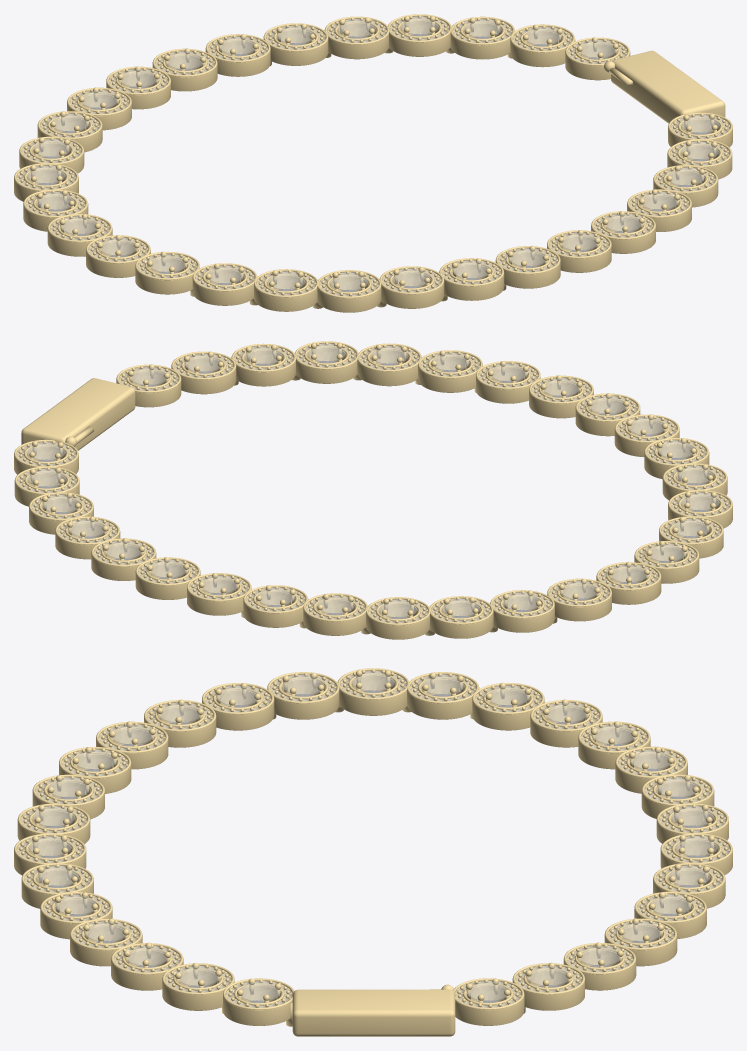
File: bracelet.glb
3 views of the same model, one above another, from view 1: azimuth 30°, elevation 25°; view 2: azimuth 150°, elevation 25°; view 3: azimuth 270°, elevation 25° (orthographic). The views are drawn at different scales.
Visible parts, largest first — view 1: clasp, LINK_19, LINK_20, LINK_18, LINK_17, LINK_03, LINK_04, LINK_02, LINK_21, LINK_05, LINK_16, LINK_22 (+18 smaller); view 2: clasp, LINK_09, LINK_10, LINK_08, LINK_11, LINK_25, LINK_07, LINK_24, LINK_26, LINK_23, LINK_12, LINK_06 (+18 smaller); view 3: clasp, LINK_00, LINK_28, LINK_14, LINK_15, LINK_13, LINK_27, LINK_01, LINK_12, LINK_16, LINK_02, LINK_26 (+18 smaller).
Boxes of the visible parts, <box> form: clasp: <box>604,50,725,123</box>; LINK_19: <box>317,270,381,312</box>; LINK_20: <box>379,266,444,308</box>; LINK_18: <box>254,269,317,311</box>; LINK_17: <box>192,263,257,305</box>; LINK_03: <box>388,14,451,56</box>; LINK_04: <box>324,16,388,59</box>; LINK_02: <box>450,16,514,59</box>; LINK_21: <box>439,258,504,300</box>; LINK_05: <box>263,23,328,65</box>; LINK_16: <box>135,251,199,294</box>; LINK_22: <box>495,245,560,288</box>; clasp: <box>21,378,135,450</box>; LINK_09: <box>366,597,429,639</box>; LINK_10: <box>429,596,493,638</box>; LINK_08: <box>303,593,367,635</box>; LINK_11: <box>490,590,554,632</box>; LINK_25: <box>294,341,358,383</box>; LINK_07: <box>243,585,308,627</box>; LINK_24: <box>357,343,421,386</box>; LINK_26: <box>231,343,295,386</box>; LINK_23: <box>418,350,482,392</box>; LINK_12: <box>547,578,611,621</box>; LINK_06: <box>187,573,251,615</box>; clasp: <box>292,984,455,1036</box>; LINK_00: <box>454,978,524,1025</box>; LINK_28: <box>223,978,294,1025</box>; LINK_14: <box>337,668,408,715</box>; LINK_15: <box>267,672,339,719</box>; LINK_13: <box>407,672,479,719</box>; LINK_27: <box>162,963,234,1010</box>; LINK_01: <box>512,962,584,1010</box>; LINK_12: <box>472,682,544,730</box>; LINK_16: <box>202,683,274,730</box>; LINK_02: <box>563,942,636,990</box>; LINK_26: <box>111,942,183,990</box>.
Size of the model in its own units: 0.0739 by 0.00324 by 0.0645.
